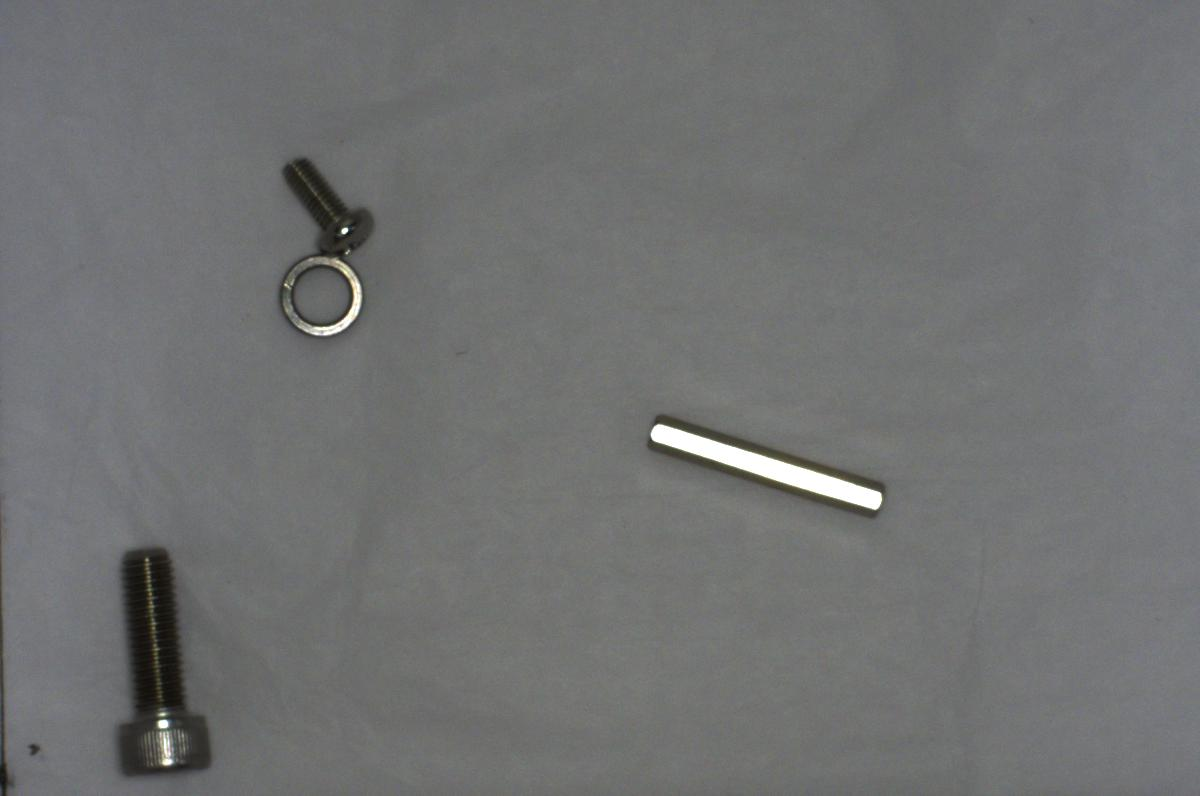Double hexagonal column: (639, 416, 886, 519)
Hexagon screw: (108, 542, 215, 787)
Round head screw: (279, 150, 378, 258)
Spring washer: (268, 241, 367, 348)
